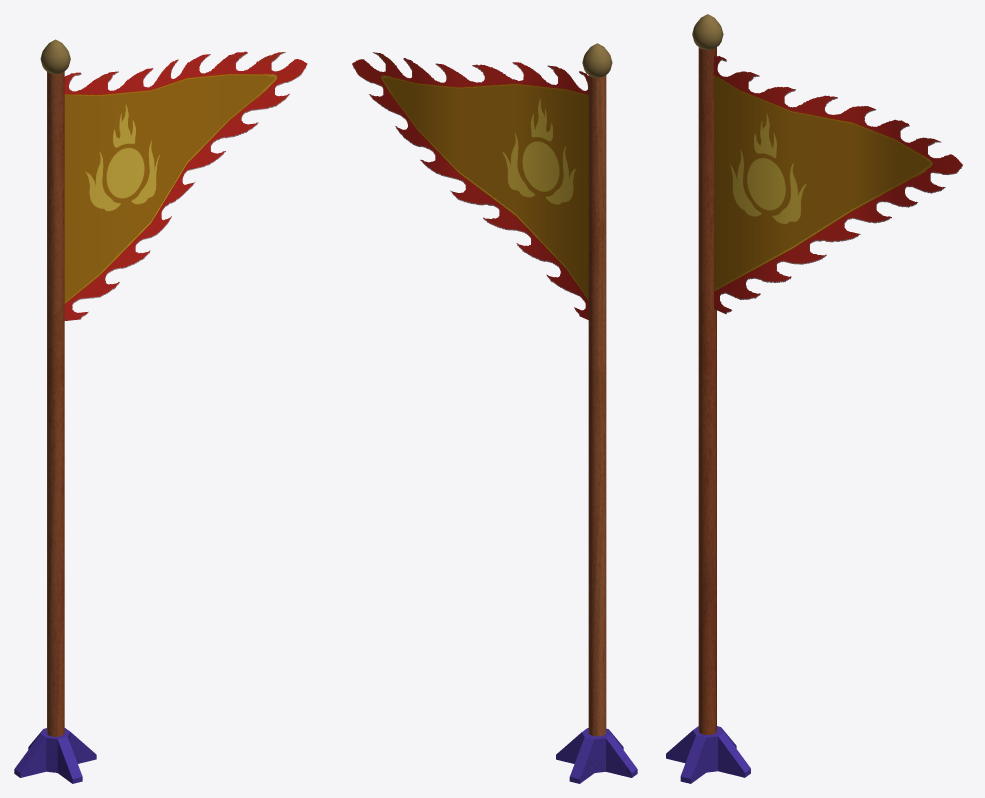
File: Flag_1.FBX
The picture shows the model from 3 angles, left to right: view 1: azimuth 30°, elevation 25°; view 2: azimuth 150°, elevation 25°; view 3: azimuth 330°, elevation 25°; orthographic projection. The views are drawn at different scales.
Parts seen in each view (by area): view 1: Flag_1; view 2: Flag_1; view 3: Flag_1.
Part boxes in pixels (x1,y1,x2,y2): Flag_1: (14, 39, 307, 783); Flag_1: (352, 43, 637, 783); Flag_1: (666, 14, 962, 783).
Size of the model in its own units: 1.35 by 3.19 by 0.3506.
